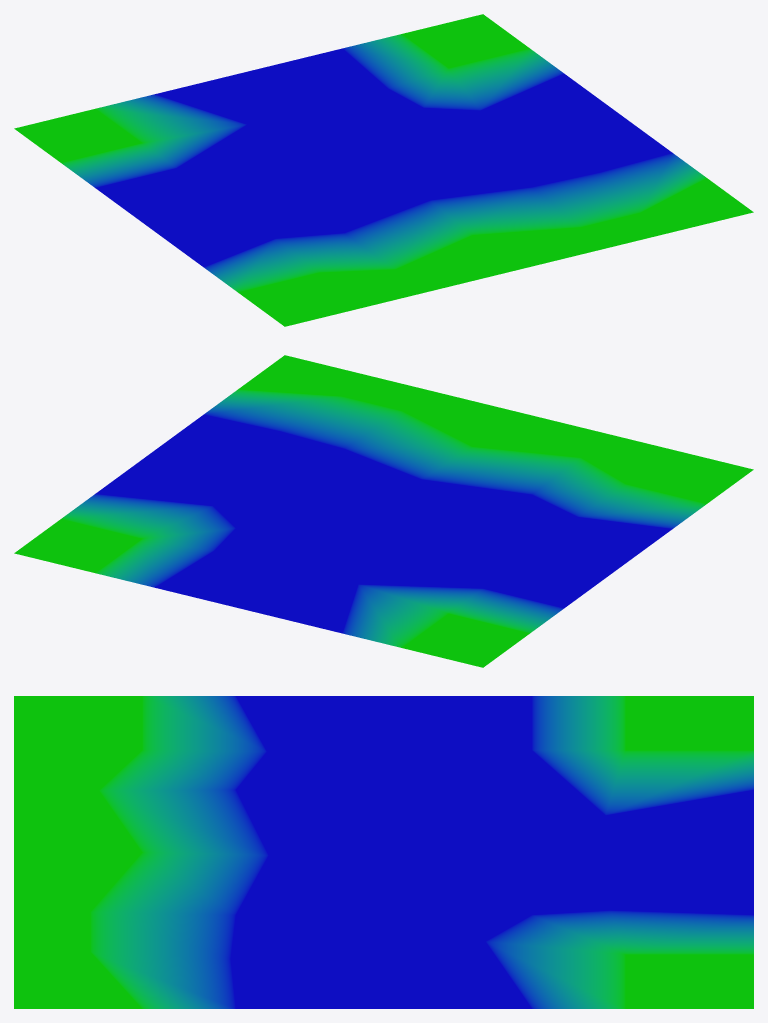
File: SM_FloorT.fbx
3 renders of one model, top to bottom at view 1: azimuth 30°, elevation 25°; view 2: azimuth 150°, elevation 25°; view 3: azimuth 270°, elevation 25°, orthographic. The views are drawn at different scales.
Parts seen in each view (by area): view 1: SM_FloorT; view 2: SM_FloorT; view 3: SM_FloorT.
Part boxes in pixels (x1,y1,x2,y2): SM_FloorT: [14, 14, 753, 326]; SM_FloorT: [14, 355, 753, 667]; SM_FloorT: [14, 696, 753, 1008].
Bounding box in the file's own units: 500 × 1.11e-13 × 500.
